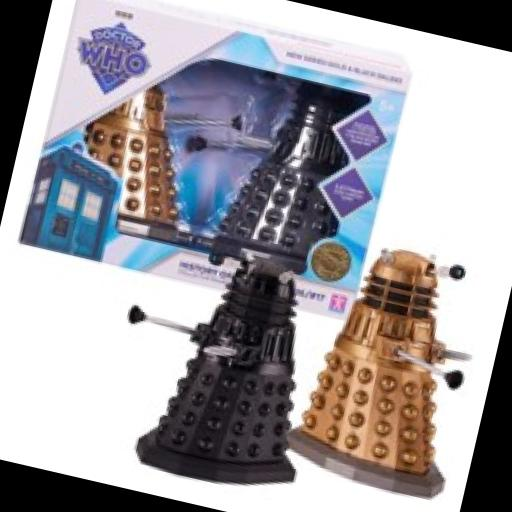dalek: (87, 225, 356, 498), (287, 224, 504, 510), (44, 28, 224, 252), (188, 74, 364, 282)
